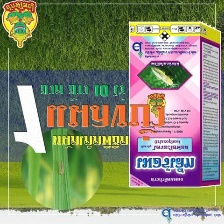carton: (126, 18, 224, 189)
